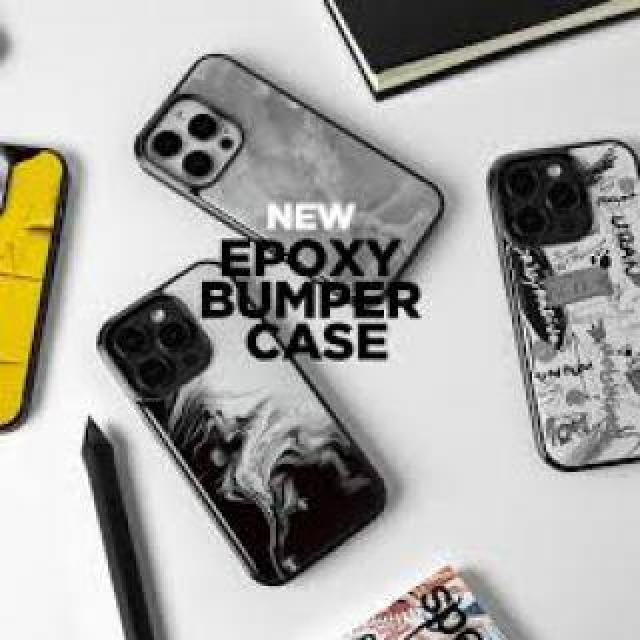smart phone: (120, 285, 407, 558), (138, 53, 405, 315), (490, 136, 640, 502)
